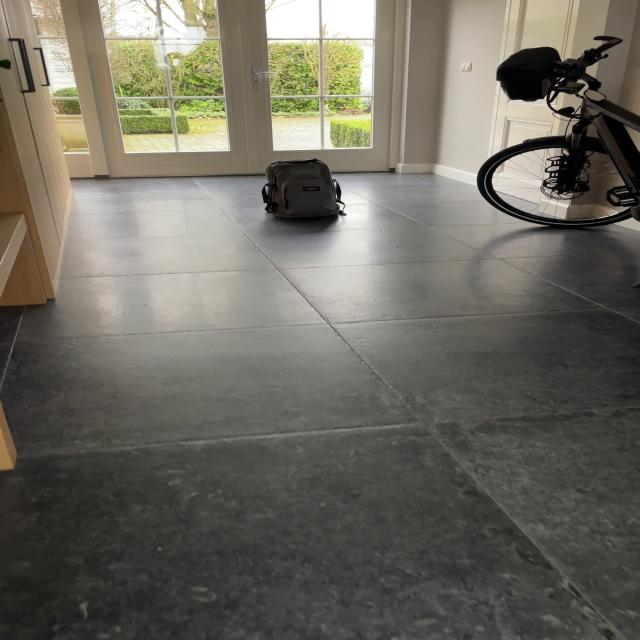backpack: (256, 155, 344, 222)
